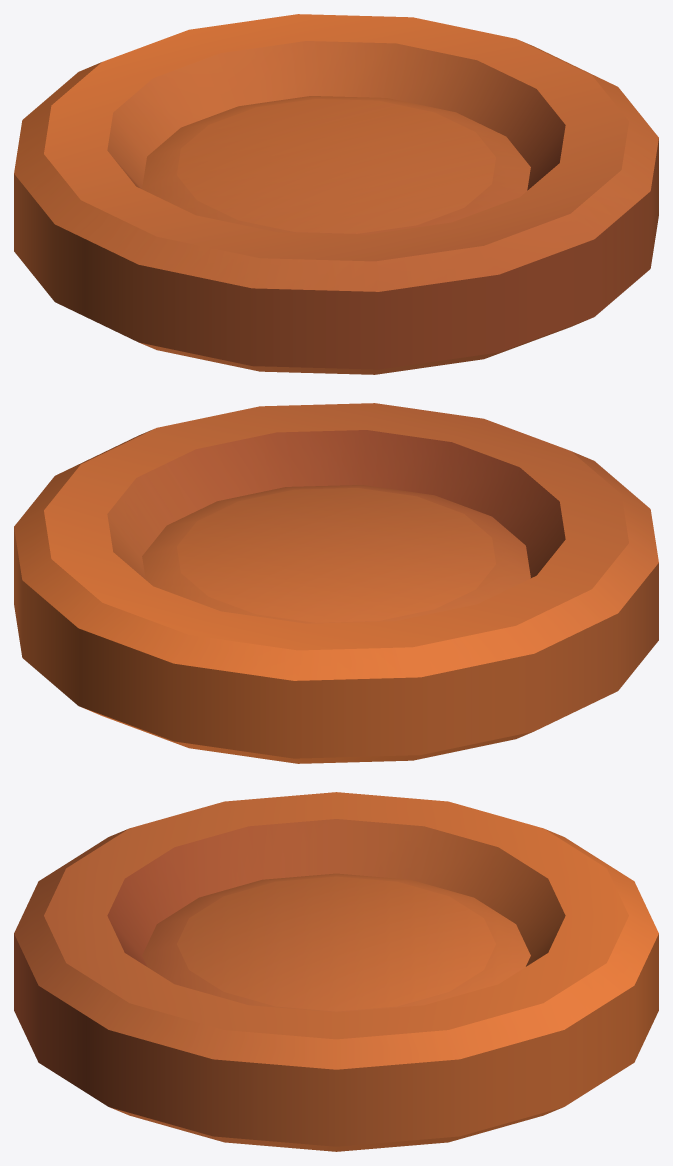
The model's file is coin_copper.obj.
3 views of the same model, one above another, from view 1: azimuth 30°, elevation 25°; view 2: azimuth 150°, elevation 25°; view 3: azimuth 270°, elevation 25° (orthographic).
Visible parts, largest first — view 1: coin_copper; view 2: coin_copper; view 3: coin_copper.
Part boxes in pixels (x1,y1,x2,y2): coin_copper: (14,14,658,374); coin_copper: (14,403,658,763); coin_copper: (14,792,658,1151).
Size of the model in its own units: 1.04 by 0.2 by 1.04.
Materials: 1 (1 with a texture image).
